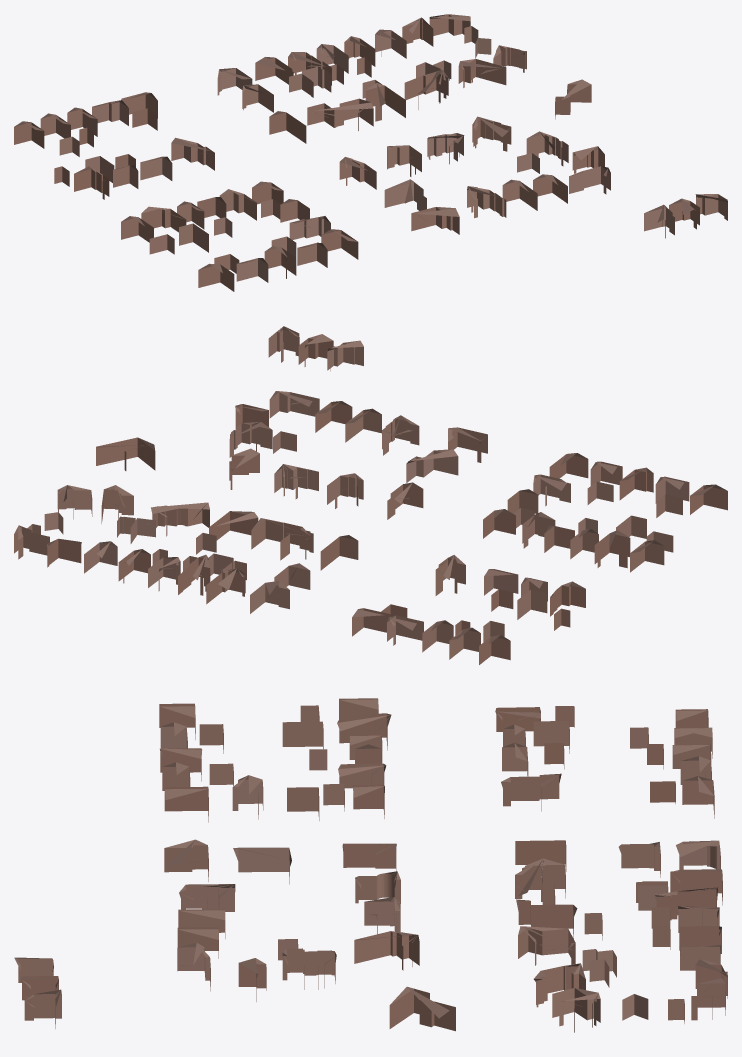
File: c_1644_17824_buildings_residential.glb
3 renders of one model, top to bottom at view 1: azimuth 30°, elevation 25°; view 2: azimuth 150°, elevation 25°; view 3: azimuth 270°, elevation 25°, orthographic. The views are drawn at different scales.
Parts seen in each view (by area): view 1: geometry_0; view 2: geometry_0; view 3: geometry_0.
Part boxes in pixels (<box>): geometry_0: <box>14,14,727,291</box>; geometry_0: <box>14,326,727,664</box>; geometry_0: <box>14,698,727,1032</box>.
Bounding box in the file's own units: 262 × 10.94 × 247.
